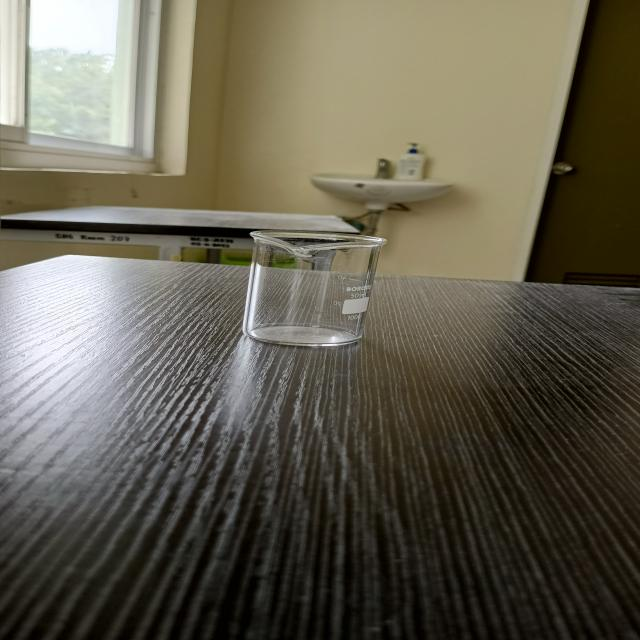beaker: (240, 225, 394, 350)
